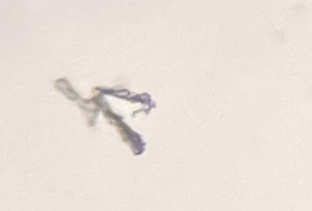microplastic: (54, 76, 153, 156)
